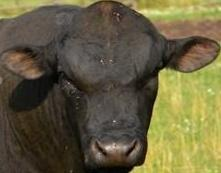muzzles: (81, 133, 149, 172)
